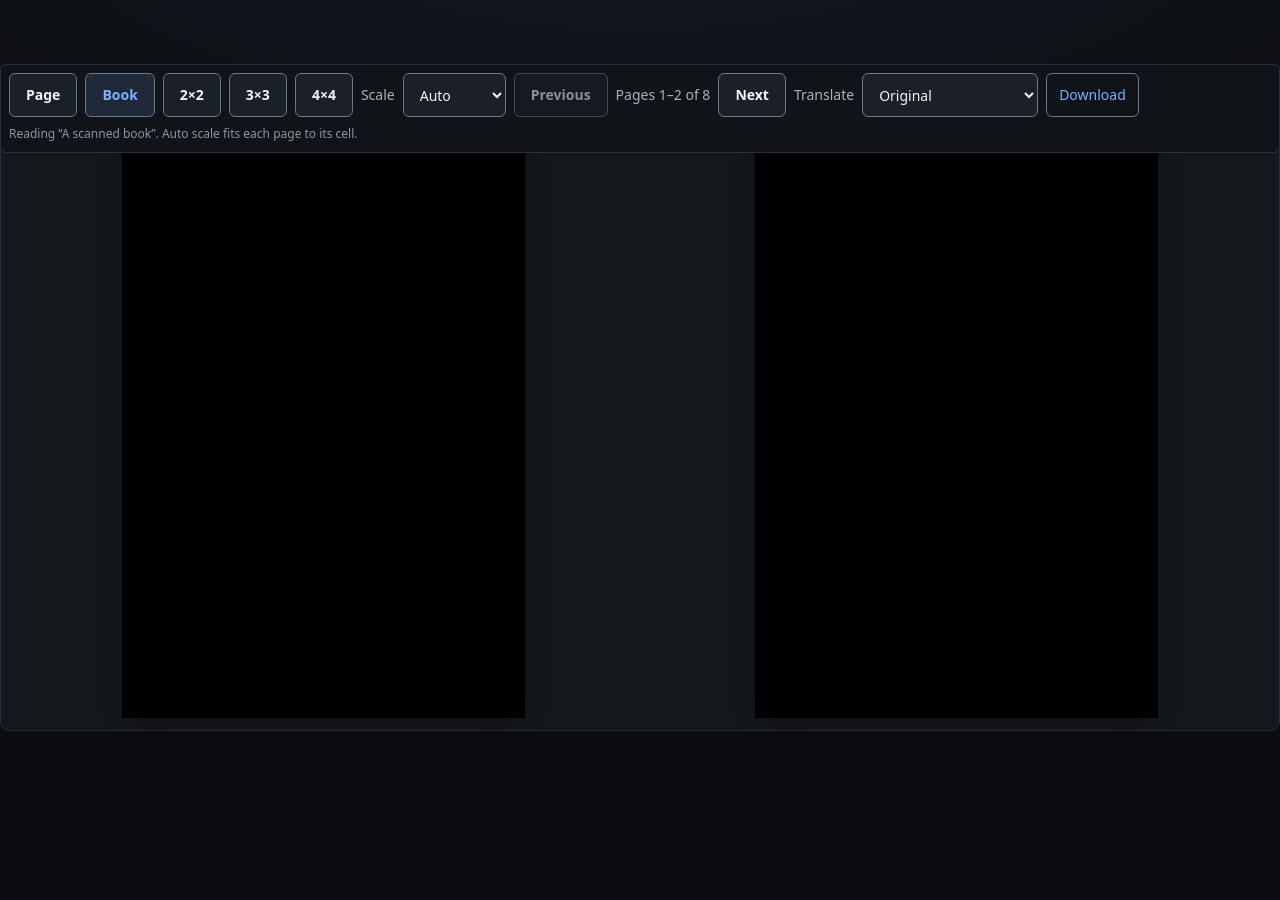
Test: PdfViewer › covers original text with a translation that keeps the line box
The image size is (1280, 900).
Select "Spanish" in the dropdown labelled "Translate" at (950, 95), box top-left (862, 73), bottom-right (1038, 117)
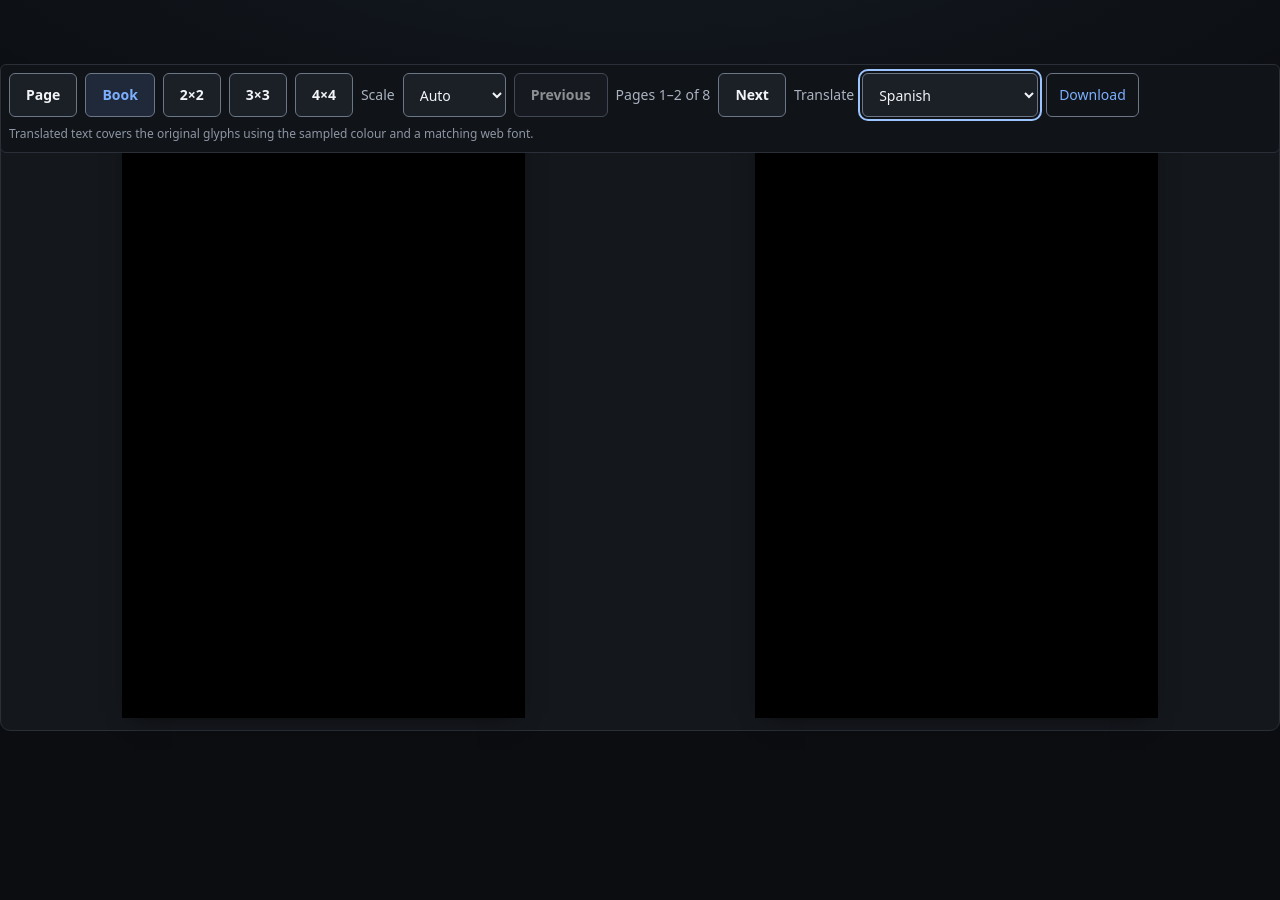
Now the text "Translated text covers the original glyphs" is shown, box top-left (9, 125), bottom-right (534, 142)
